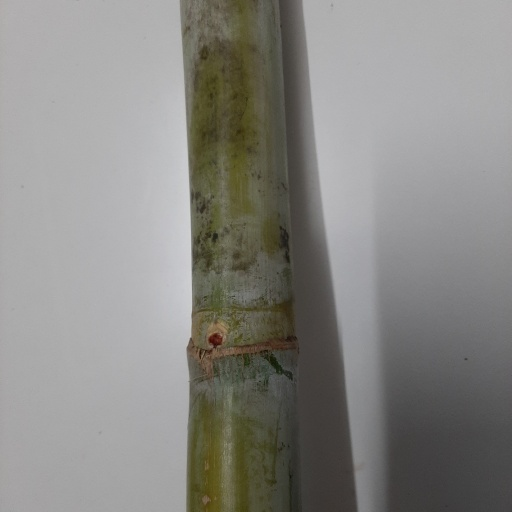Damage_Bud: (207, 321, 227, 352)
